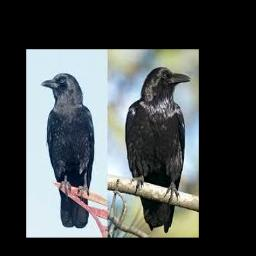Crow: (125, 67, 191, 233), (40, 72, 95, 228)
